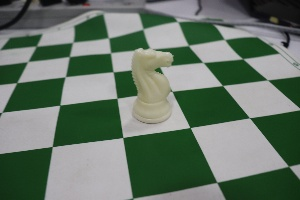white_horse: (126, 34, 177, 126)
